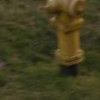Hydrant: (36, 2, 90, 80)
